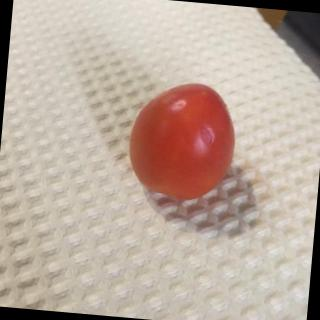Tomat: (119, 72, 243, 214)
